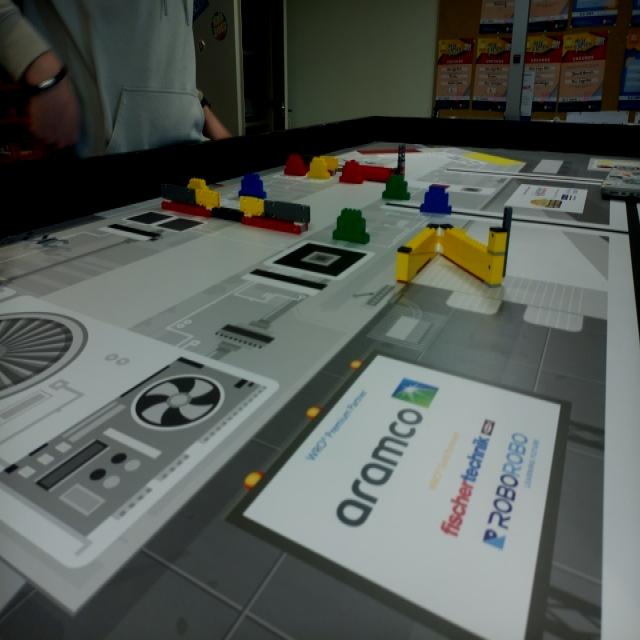blau: (421, 185, 451, 212), (237, 173, 266, 197)
gruen: (335, 211, 368, 241), (382, 177, 408, 201)
rot: (341, 162, 362, 182), (286, 156, 304, 178)
yellow: (310, 159, 329, 182), (186, 178, 205, 187)
